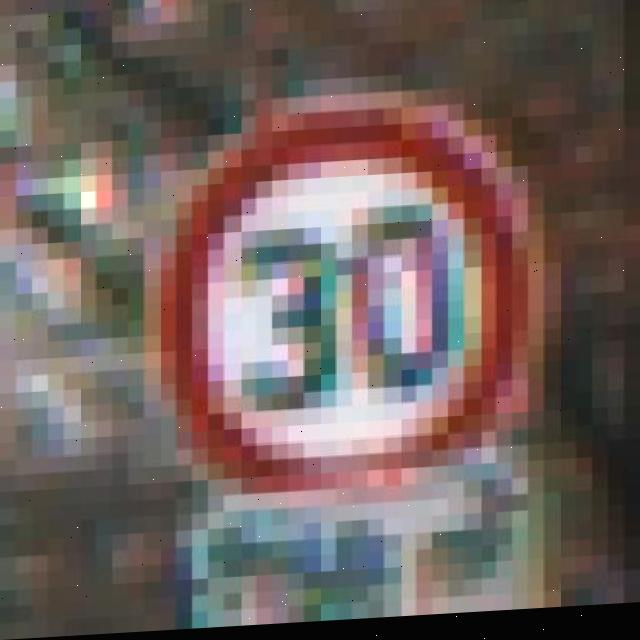Speed limit 30: (170, 93, 535, 514)
